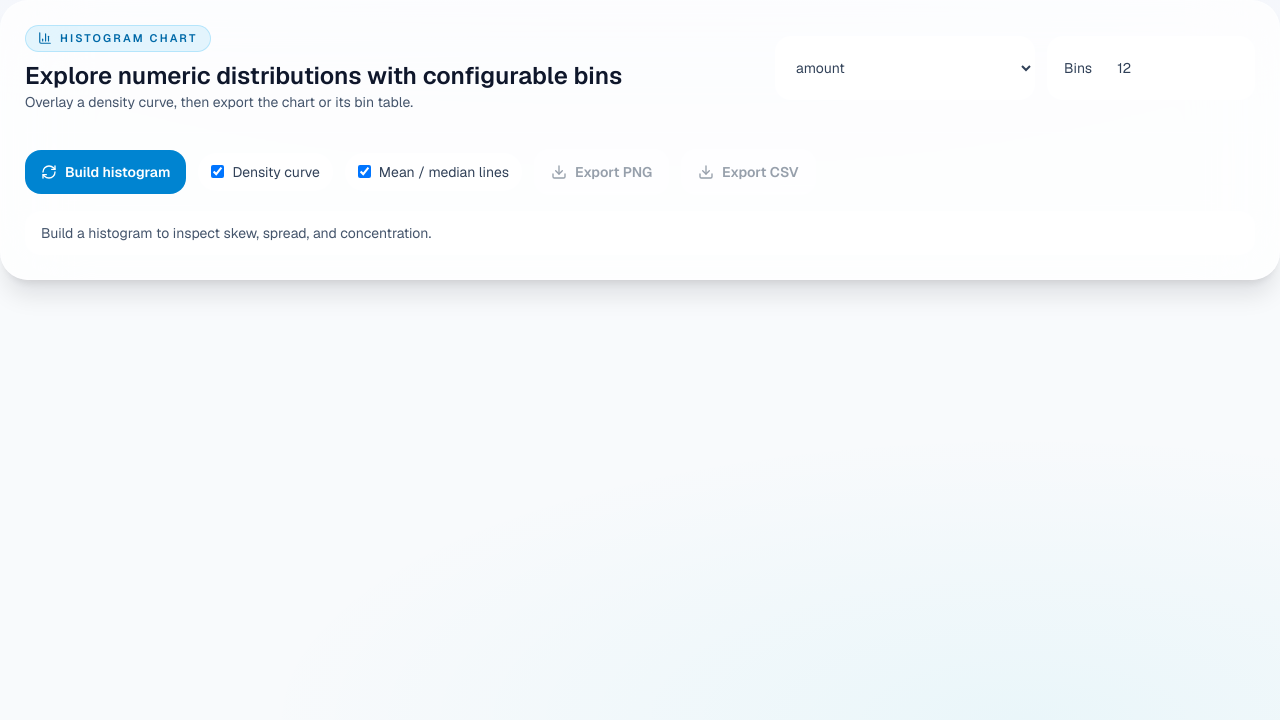
Test: HistogramChart › shows query failures in the status panel
This screenshot has width=1280, height=720.
Click the button "Build histogram": [106, 172] box [25,150,186,194]
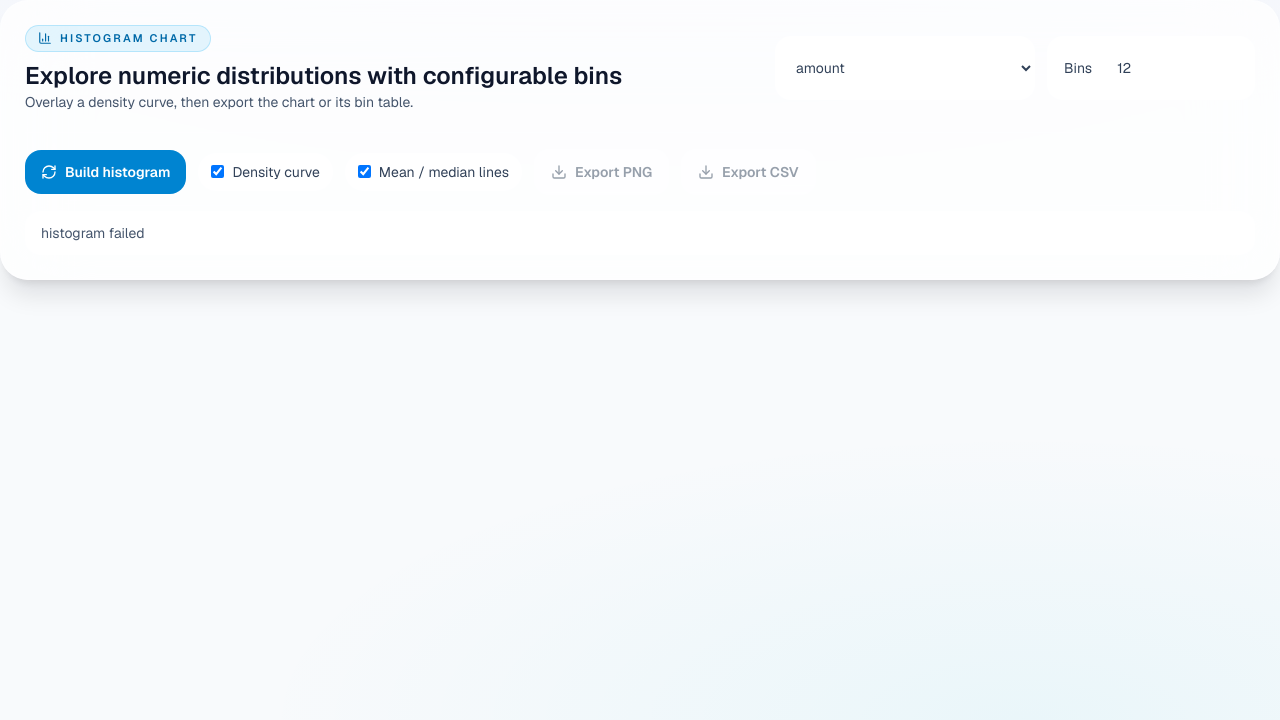
Check: the text "histogram failed" is shown, box [25,210,1255,254]
